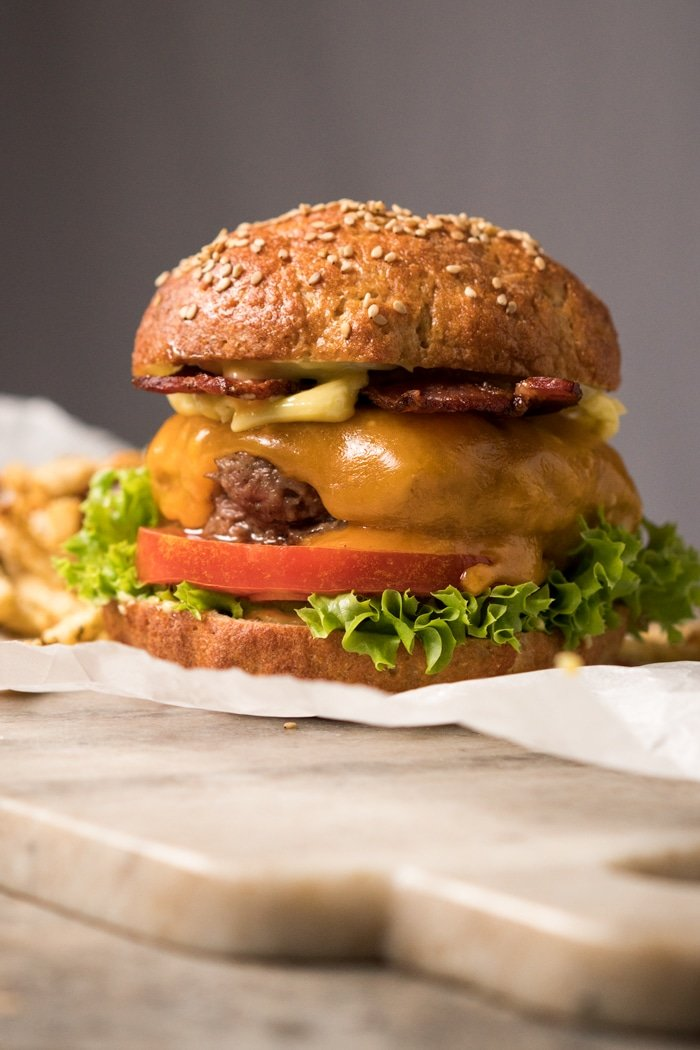hamburger_buns: (81, 171, 672, 726)
